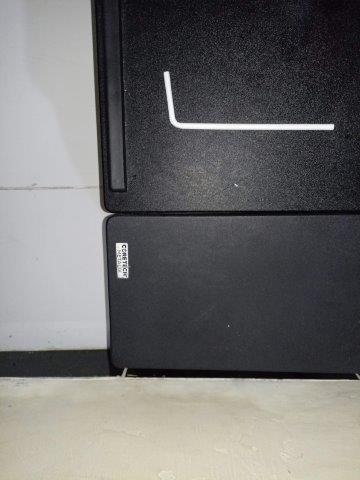sedotan: (163, 70, 334, 131)
